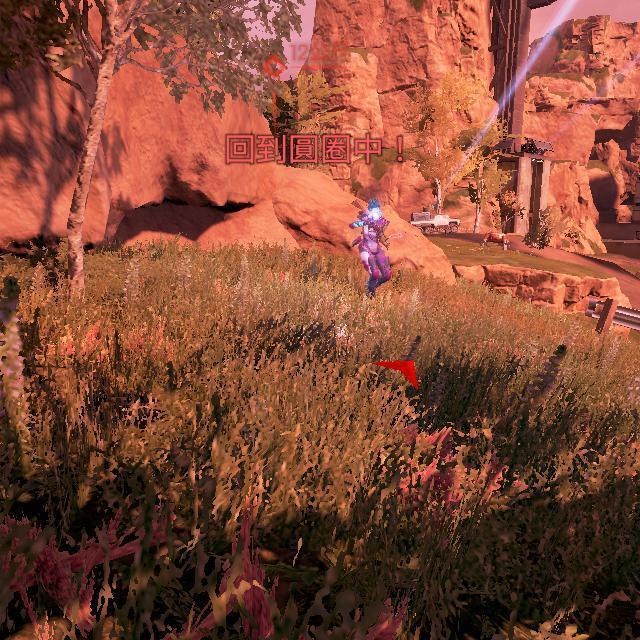avatar: (350, 199, 393, 298)
